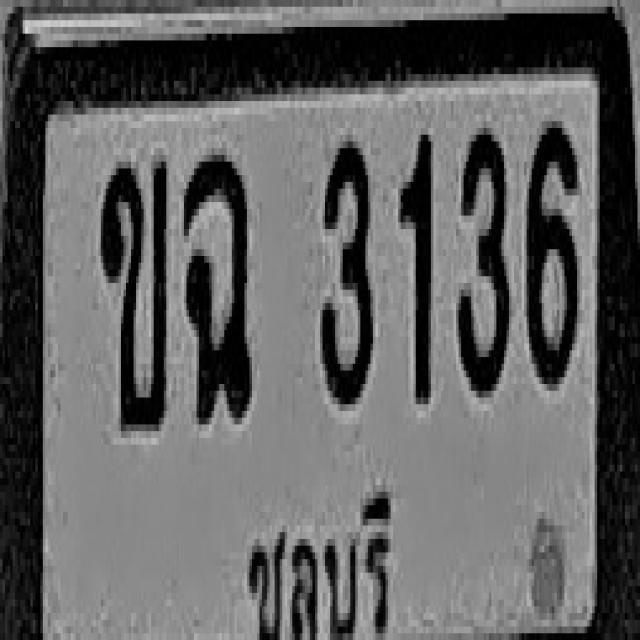1: (398, 128, 431, 397)
11KhorKhai: (101, 158, 166, 428)
18ChorChing: (182, 148, 250, 418)
3: (456, 125, 509, 394), (320, 138, 373, 401)
6: (527, 121, 577, 384)
Chonburi: (237, 485, 400, 640)
